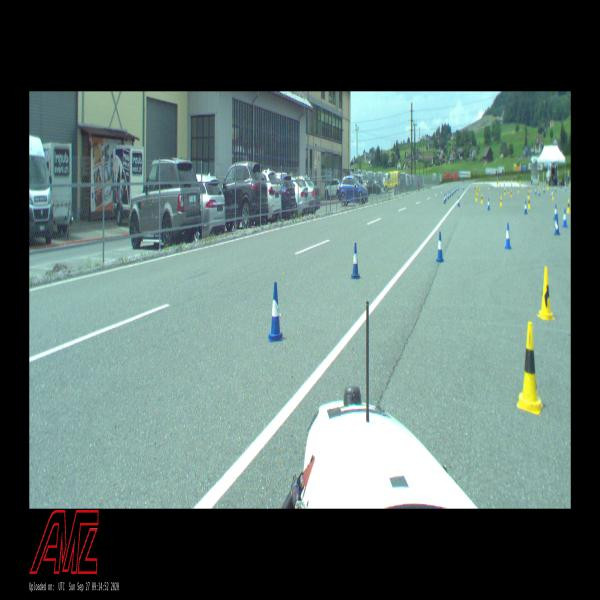blue_cone: (268, 282, 282, 340), (351, 244, 360, 279), (436, 232, 444, 262), (505, 223, 511, 249), (554, 216, 560, 235), (562, 209, 568, 227), (554, 204, 558, 219), (524, 201, 528, 214), (487, 198, 490, 210), (457, 196, 460, 207), (444, 195, 446, 203), (535, 188, 537, 195), (538, 189, 540, 196)
yellow_cone: (517, 321, 543, 415), (537, 268, 555, 320), (567, 200, 570, 213), (475, 192, 478, 202), (528, 196, 530, 209), (481, 193, 483, 204), (500, 196, 502, 206), (510, 189, 512, 198), (552, 191, 554, 199), (504, 188, 506, 195), (518, 187, 520, 193)
